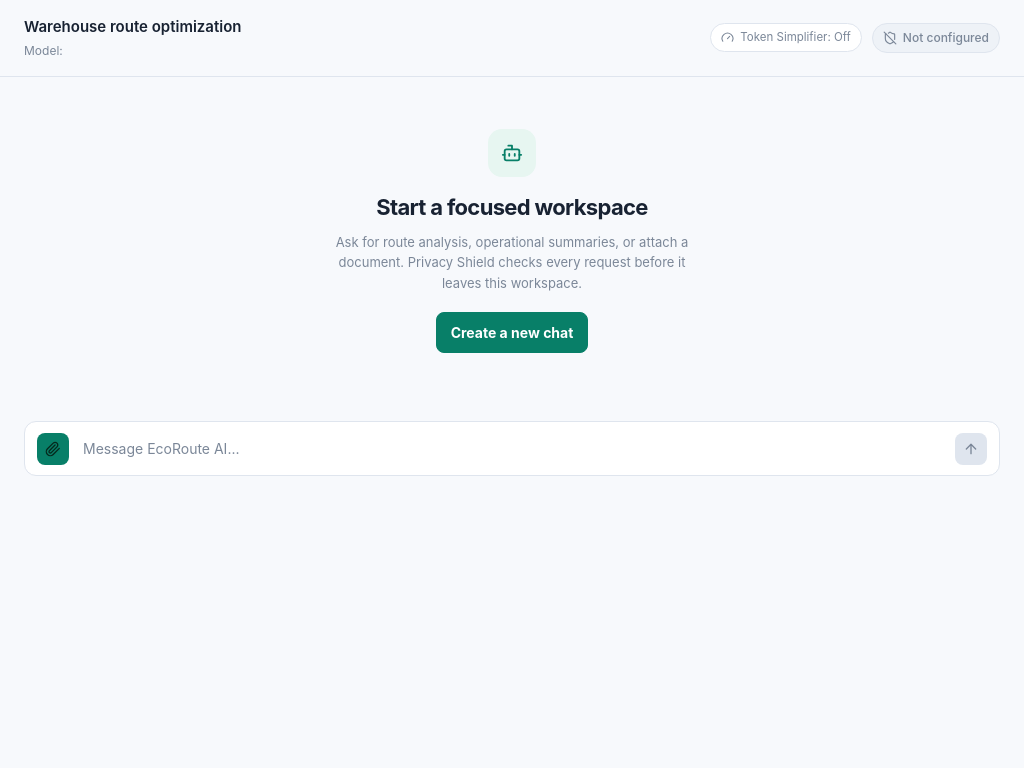
ChatArea - Token Simplifier integration › disabled by default: sends the redacted original unchanged
Type "Please note that this is really, really basically a very simple   test   prompt." into the text box with placeholder "Message EcoRoute AI...". click: (512, 448)
box: [79,432,945,465]
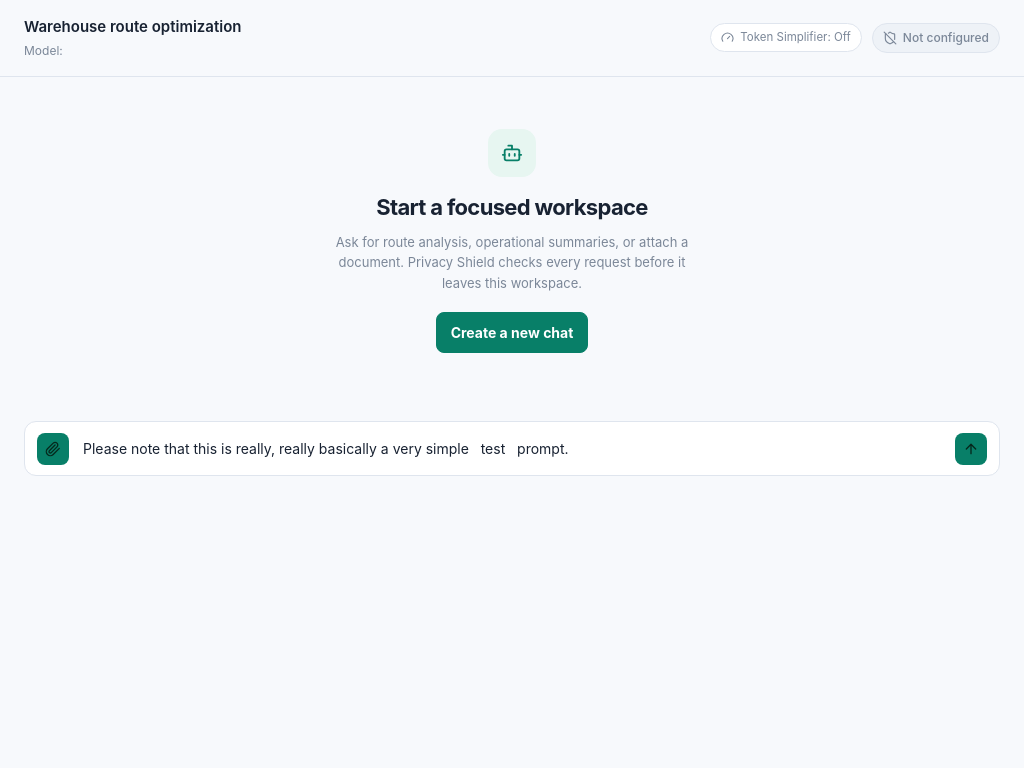
Click the button named "Send message". click: (971, 449)
box: [955,433,987,465]
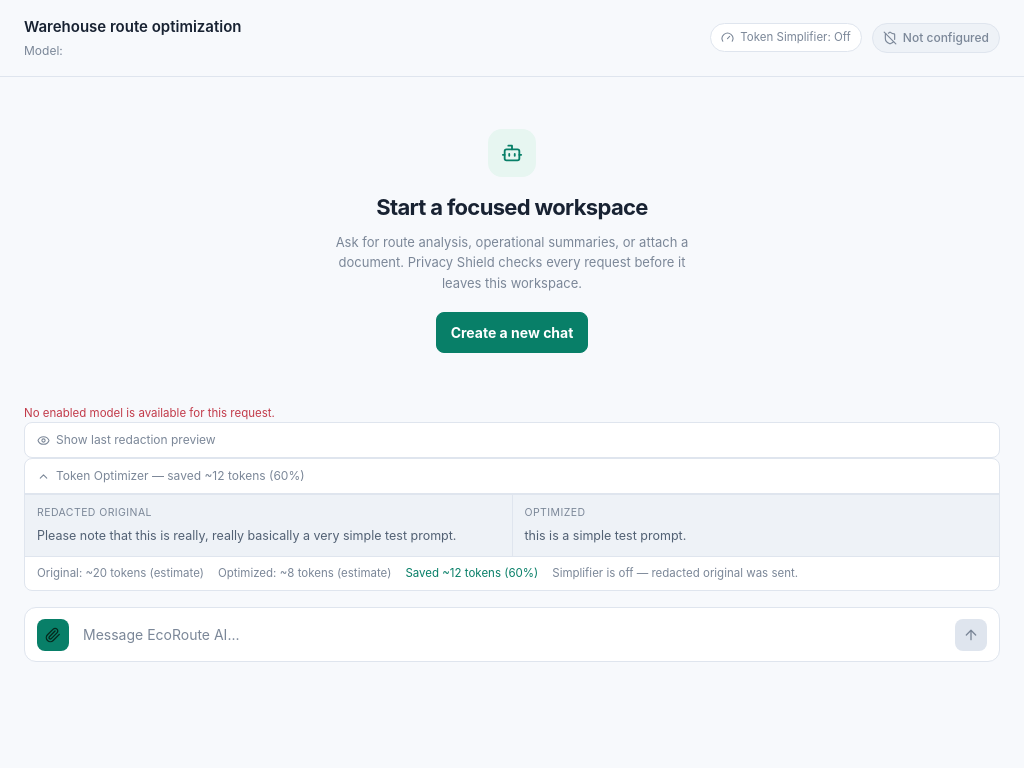
Now the button "Token Optimizer — saved ~12 tokens (60%)" is shown, box [25,459,999,493]
